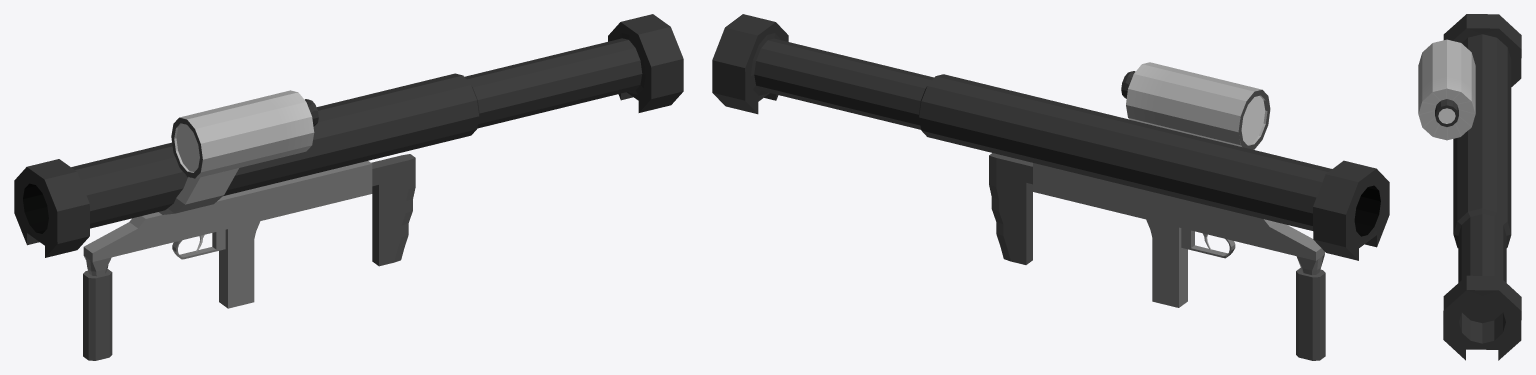
File: Panzerfaust-3.fbx
The picture shows the model from 3 angles, left to right: view 1: azimuth 30°, elevation 25°; view 2: azimuth 150°, elevation 25°; view 3: azimuth 270°, elevation 25°; orthographic projection. The views are drawn at different scales.
Parts seen in each view (by area): view 1: Cylinder.001, Cube, Cylinder, Cylinder.002, Cube.001; view 2: Cylinder.001, Cube, Cylinder, Cylinder.002, Cube.001; view 3: Cylinder.001, Cylinder, Cylinder.003.
Part boxes in pixels (x1,y1,x2,y2): Cylinder.001: [14, 14, 683, 257]; Cube: [83, 154, 415, 360]; Cylinder: [171, 90, 318, 178]; Cylinder.002: [176, 123, 199, 171]; Cube.001: [172, 229, 225, 259]; Cylinder.001: [712, 14, 1389, 260]; Cube: [989, 153, 1325, 360]; Cylinder: [1121, 62, 1270, 149]; Cylinder.002: [1241, 96, 1265, 144]; Cube.001: [1181, 228, 1235, 258]; Cylinder.001: [1443, 14, 1521, 360]; Cylinder: [1418, 39, 1475, 140]; Cylinder.003: [1438, 108, 1455, 123].
Size of the model in its own units: 703 by 248 by 111.
